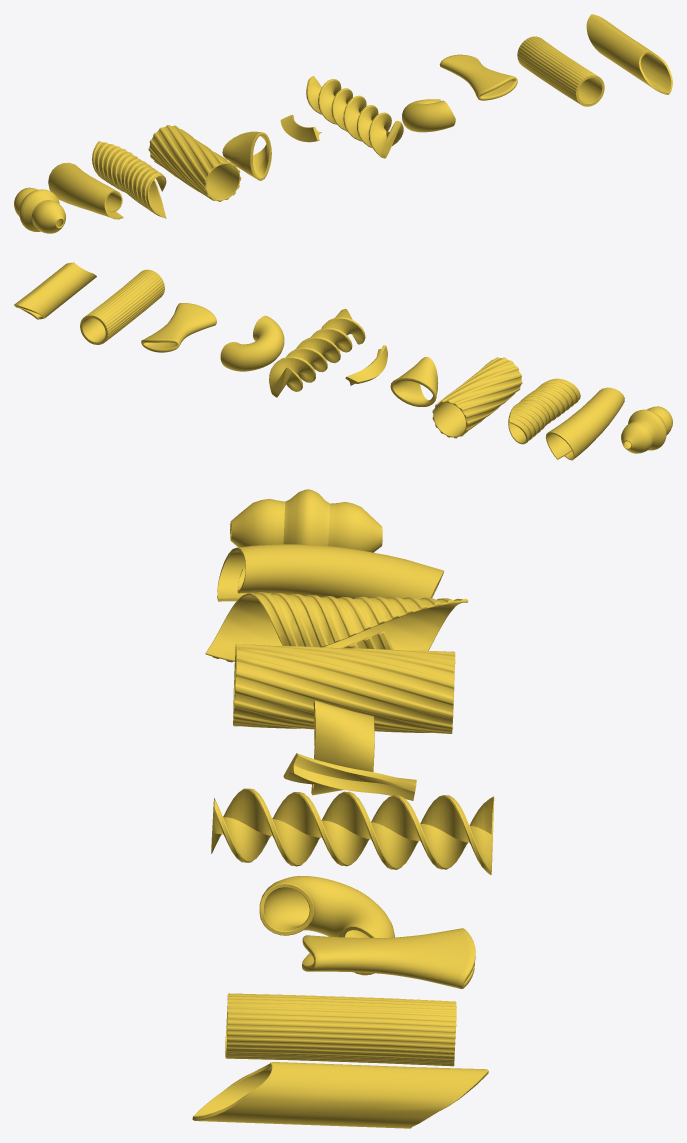
File: Nudell.fbx
The picture shows the model from 3 angles, top to bottom: view 1: azimuth 30°, elevation 25°; view 2: azimuth 150°, elevation 25°; view 3: azimuth 270°, elevation 25°; orthographic projection. The views are drawn at different scales.
Parts seen in each view (by area): view 1: Цилиндр.013, Плоскость.002, Цилиндр.001, Плоскость.004, Куб.002, Плоскость.006, Цилиндр.003, Цилиндр.014, Цилиндр.005, Цилиндр.002, Плоскость.001; view 2: Цилиндр.013, Плоскость.002, Цилиндр.001, Плоскость.006, Плоскость.004, Цилиндр.002, Куб.002, Цилиндр.003, Цилиндр.014, Цилиндр.005, Плоскость.001; view 3: Цилиндр.013, Плоскость.002, Цилиндр.001, Куб.002, Плоскость.004, Плоскость.006, Цилиндр.003, Цилиндр.014, Цилиндр.002, Цилиндр.005, Плоскость.001.
Part boxes in pixels (x1,y1,x2,y2): Цилиндр.013: (148,125,241,201); Плоскость.002: (306,76,403,158); Цилиндр.001: (517,36,604,106); Плоскость.004: (92,141,166,218); Куб.002: (586,14,672,94); Плоскость.006: (48,162,123,219); Цилиндр.003: (439,54,517,100); Цилиндр.014: (14,187,65,233); Цилиндр.005: (222,131,271,180); Цилиндр.002: (402,99,455,132); Плоскость.001: (280,114,321,142); Цилиндр.013: (432,357,522,438); Плоскость.002: (269,309,365,397); Цилиндр.001: (80,269,164,344); Плоскость.006: (545,387,624,460); Плоскость.004: (508,378,580,444); Цилиндр.002: (220,315,284,371); Куб.002: (14,262,96,319); Цилиндр.003: (141,303,216,352); Цилиндр.014: (621,406,672,453); Цилиндр.005: (390,356,438,406); Плоскость.001: (345,345,387,385); Цилиндр.013: (233,644,455,733); Плоскость.002: (211,788,494,874); Цилиндр.001: (225,993,456,1066); Куб.002: (192,1062,488,1128); Плоскость.004: (205,592,468,662); Плоскость.006: (217,544,443,601); Цилиндр.003: (302,928,475,988); Цилиндр.014: (230,489,382,552); Цилиндр.002: (259,876,394,975); Цилиндр.005: (311,700,374,795); Плоскость.001: (283,753,416,800).
Size of the model in its own units: 23.35 by 1.85 by 4.96.
